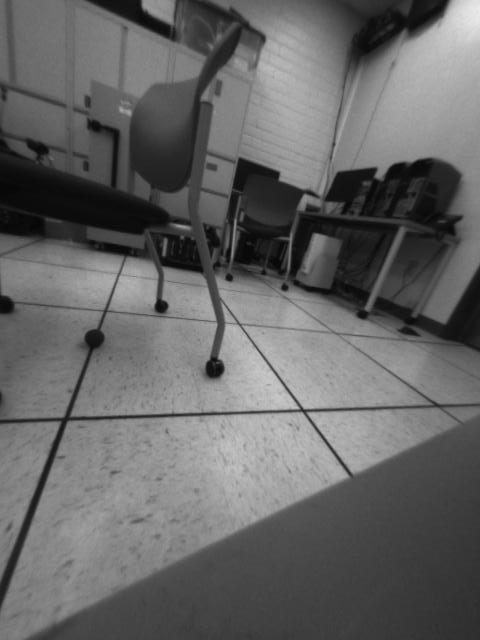dogtoy: (77, 322, 114, 353)
